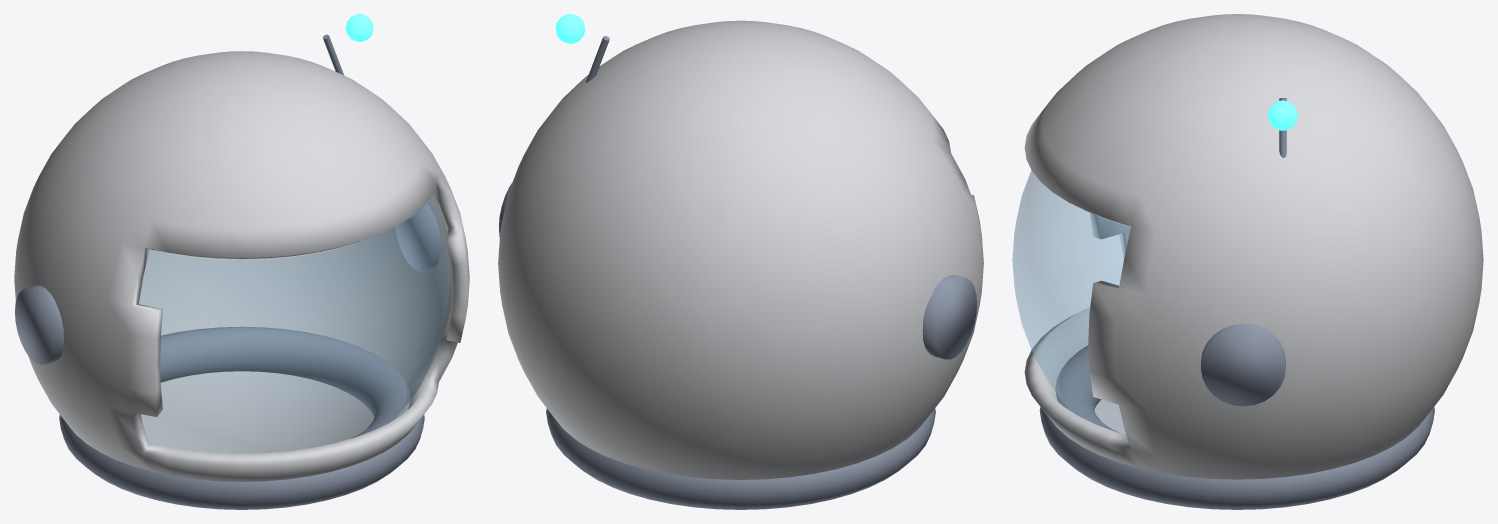
Rendered from astronauta.glb.
3 views of the same model, side by side, from view 1: azimuth 30°, elevation 25°; view 2: azimuth 150°, elevation 25°; view 3: azimuth 270°, elevation 25° (orthographic). The views are drawn at different scales.
Parts seen in each view (by area): view 1: astronauta; view 2: astronauta; view 3: astronauta.
Boxes of the visible parts, x1,y1,x2,y2 form: astronauta: [14, 14, 469, 509]; astronauta: [498, 14, 983, 509]; astronauta: [1012, 14, 1483, 509].
Size of the model in its own units: 1.68 by 1.65 by 1.55.
